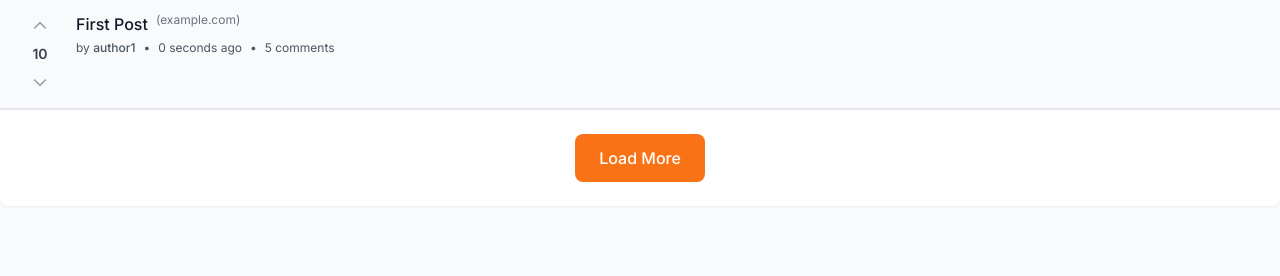
PostList › Pagination › should load next page when "Load More" is clicked
Expected: the link "First Post" is shown, [76,12,148,36]
Note: Click load more
Click the button "Load More": click(640, 158) [575,134,705,182]
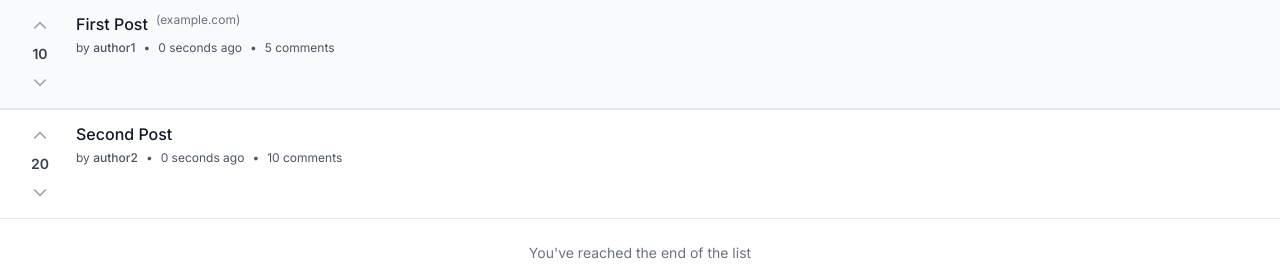
Expected: the link "First Post" is shown, [76,12,148,36]
Expected: the link "Second Post" is shown, [76,122,172,146]
